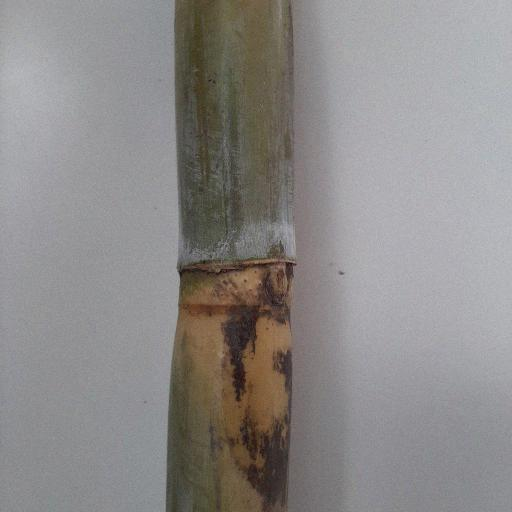Bud: (265, 269, 290, 306)
